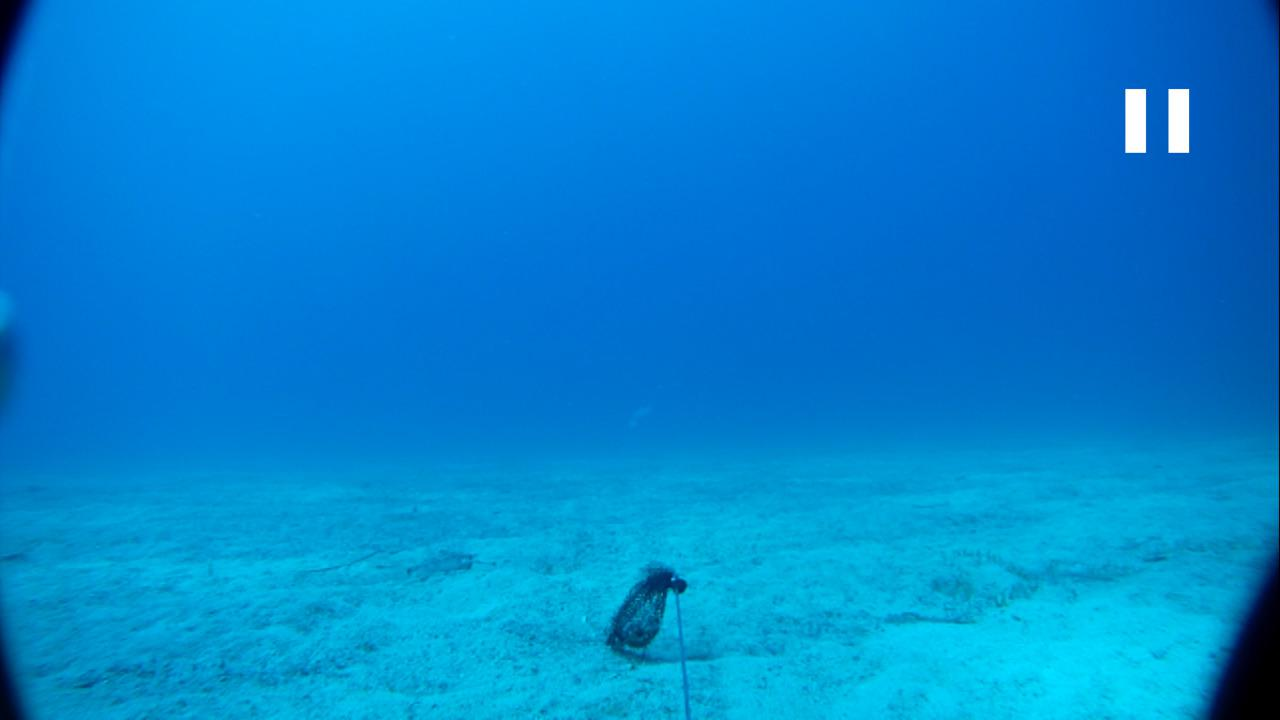dactylopterus: (389, 533, 484, 590)
